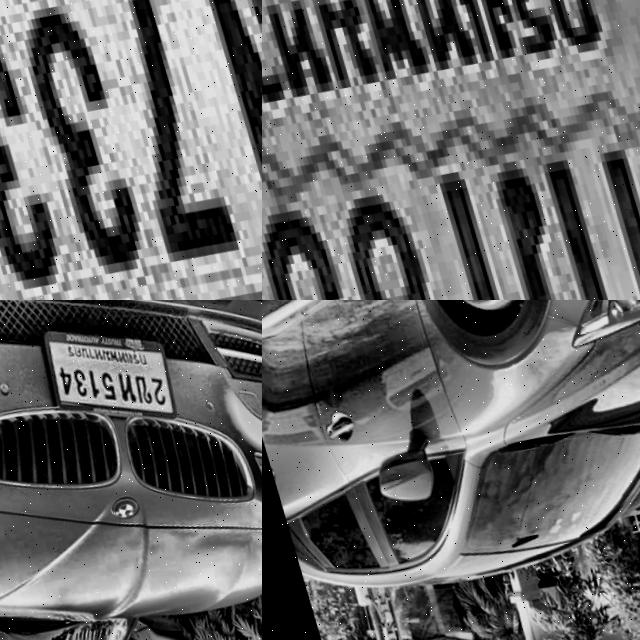license-plate: (262, 0, 640, 300), (0, 0, 262, 300), (24, 300, 178, 441)
